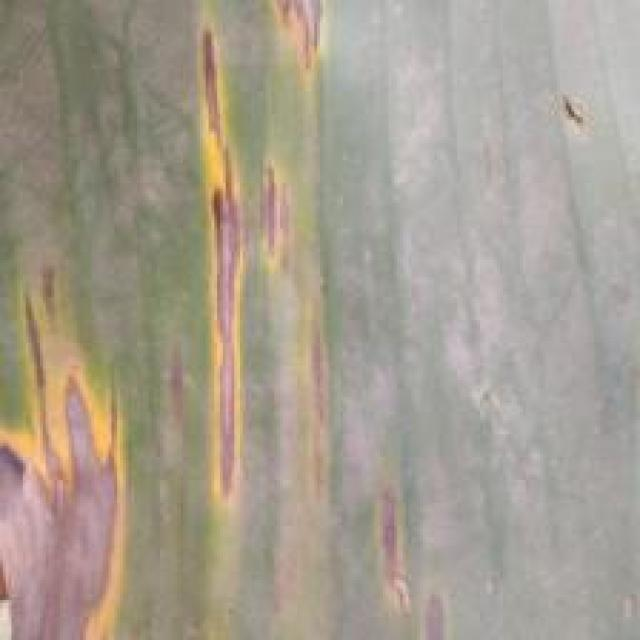Early_leaf_spot: (0, 231, 157, 640), (166, 16, 294, 510), (276, 299, 354, 508), (361, 480, 459, 640), (254, 0, 341, 90), (533, 84, 618, 150)
